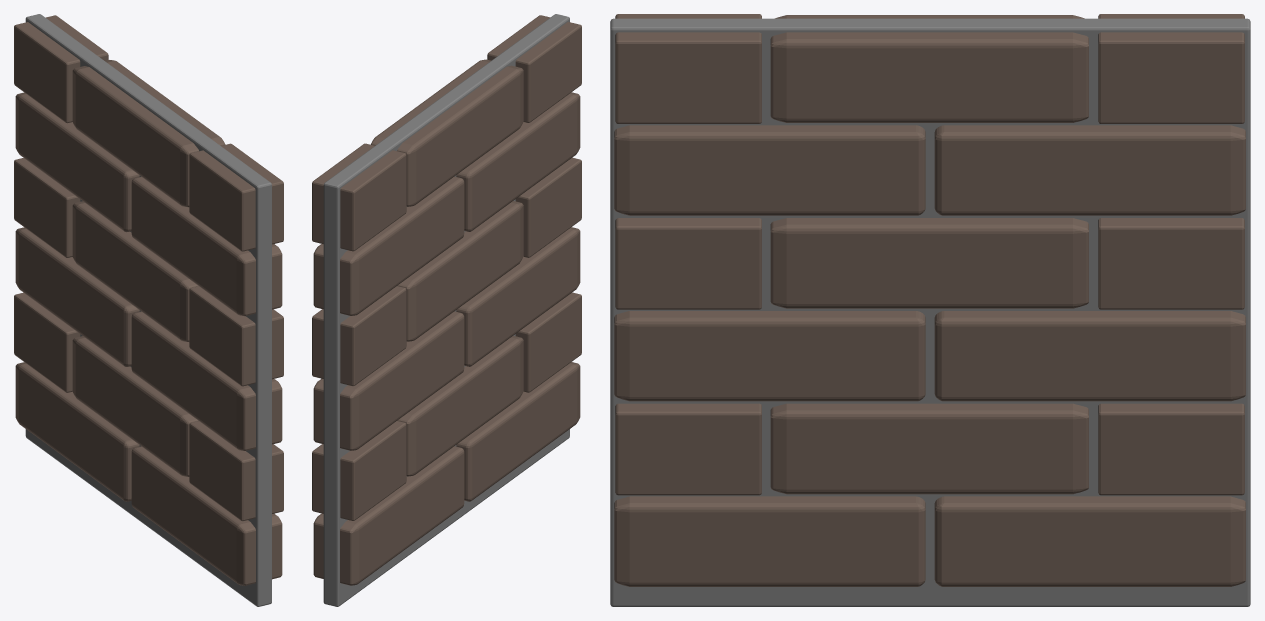
The model's file is Environment Wall.fbx.
3 renders of one model, left to right at view 1: azimuth 30°, elevation 25°; view 2: azimuth 150°, elevation 25°; view 3: azimuth 270°, elevation 25°, orthographic. The views are drawn at different scales.
Visible parts, largest first — view 1: Wall; view 2: Wall; view 3: Wall.
Boxes of the visible parts, x1,y1,x2,y2 form: Wall: (14, 14, 283, 606); Wall: (312, 14, 581, 606); Wall: (610, 14, 1250, 606).
Bounding box in the file's own units: 42.38 × 400 × 400.
